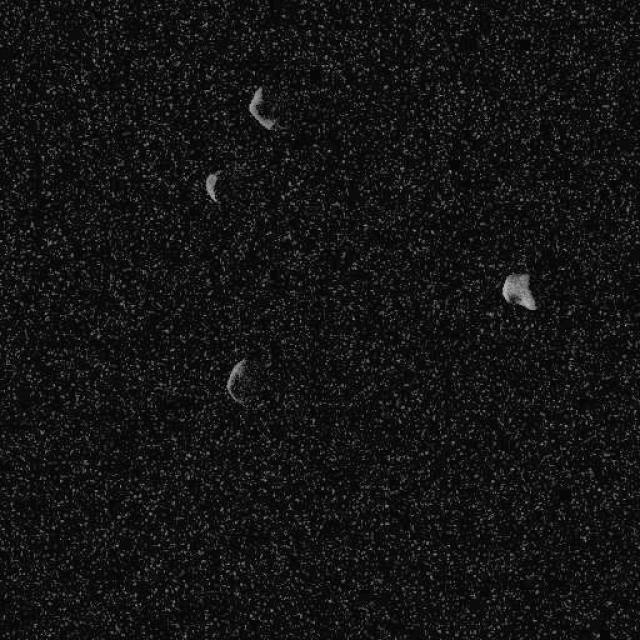D2: (500, 271, 538, 311), (248, 85, 280, 130), (225, 357, 250, 405), (204, 170, 221, 204)
